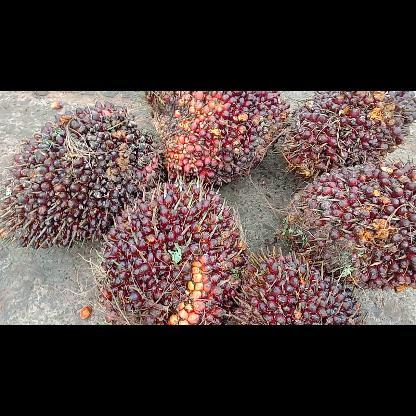Kurang masak: (0, 100, 168, 254), (94, 174, 252, 324), (283, 157, 415, 293), (141, 90, 291, 188), (204, 248, 372, 324), (281, 91, 415, 181)
